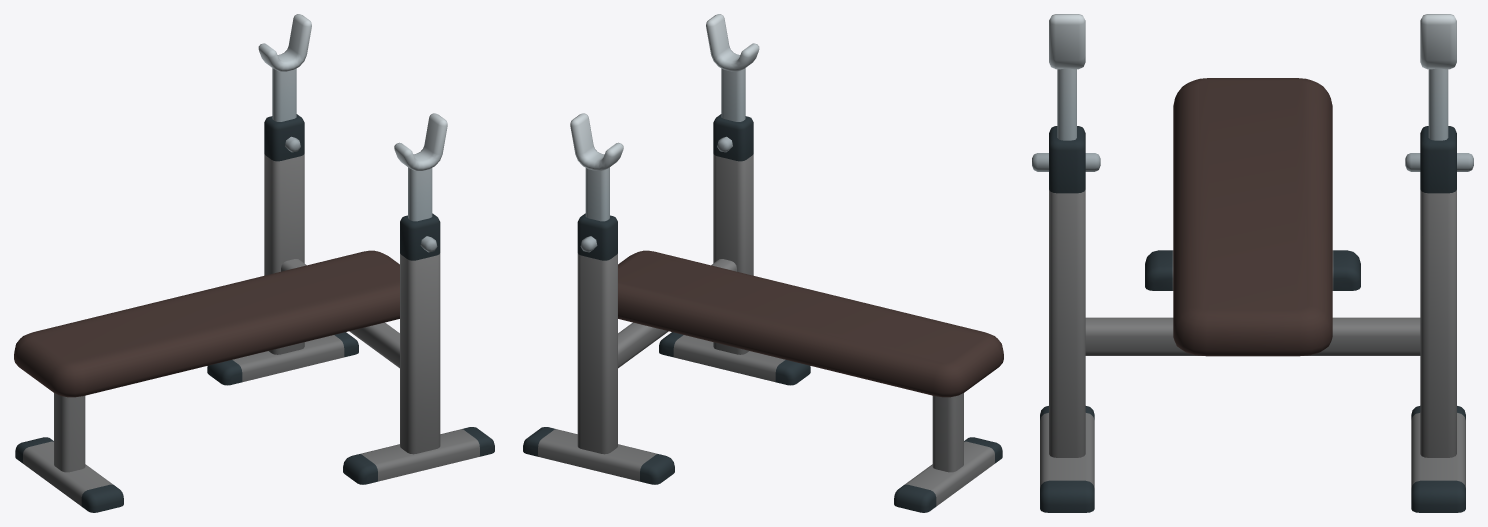
The model's file is BarbellStand_01.glb.
3 renders of one model, left to right at view 1: azimuth 30°, elevation 25°; view 2: azimuth 150°, elevation 25°; view 3: azimuth 270°, elevation 25°, orthographic. The views are drawn at different scales.
Parts seen in each view (by area): view 1: BarbellStand_01; view 2: BarbellStand_01; view 3: BarbellStand_01.
Part boxes in pixels (bbox=[...]): BarbellStand_01: bbox=[14, 14, 494, 512]; BarbellStand_01: bbox=[523, 14, 1003, 512]; BarbellStand_01: bbox=[1032, 14, 1473, 512].
Bounding box in the file's own units: 1.33 × 1.13 × 0.9691.
Materials: 1 (1 with a texture image).
